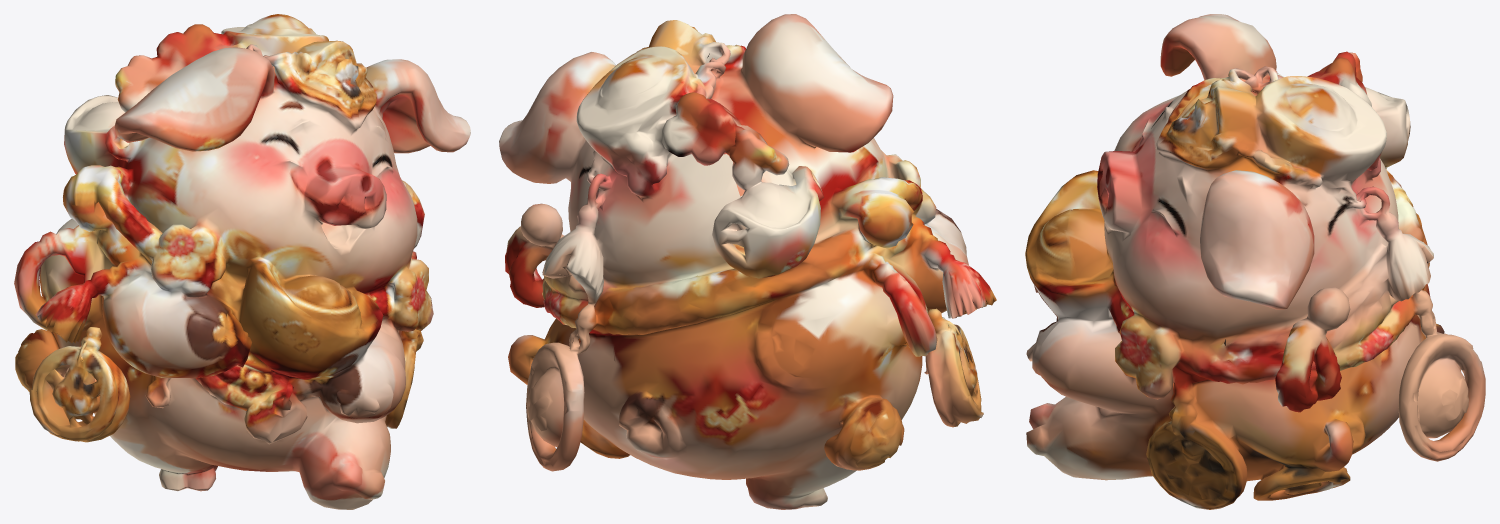
Rendered from original.glb.
The picture shows the model from 3 angles, left to right: view 1: azimuth 30°, elevation 25°; view 2: azimuth 150°, elevation 25°; view 3: azimuth 270°, elevation 25°; orthographic projection. The views are drawn at different scales.
Visible parts, largest first — view 1: Body; view 2: Body; view 3: Body.
Boxes of the visible parts, <box> form: Body: <box>14,14,470,509</box>; Body: <box>499,14,996,509</box>; Body: <box>1025,14,1485,509</box>.
Size of the model in its own units: 0.998 by 0.9377 by 0.8742.
1 material, 1 textured.
